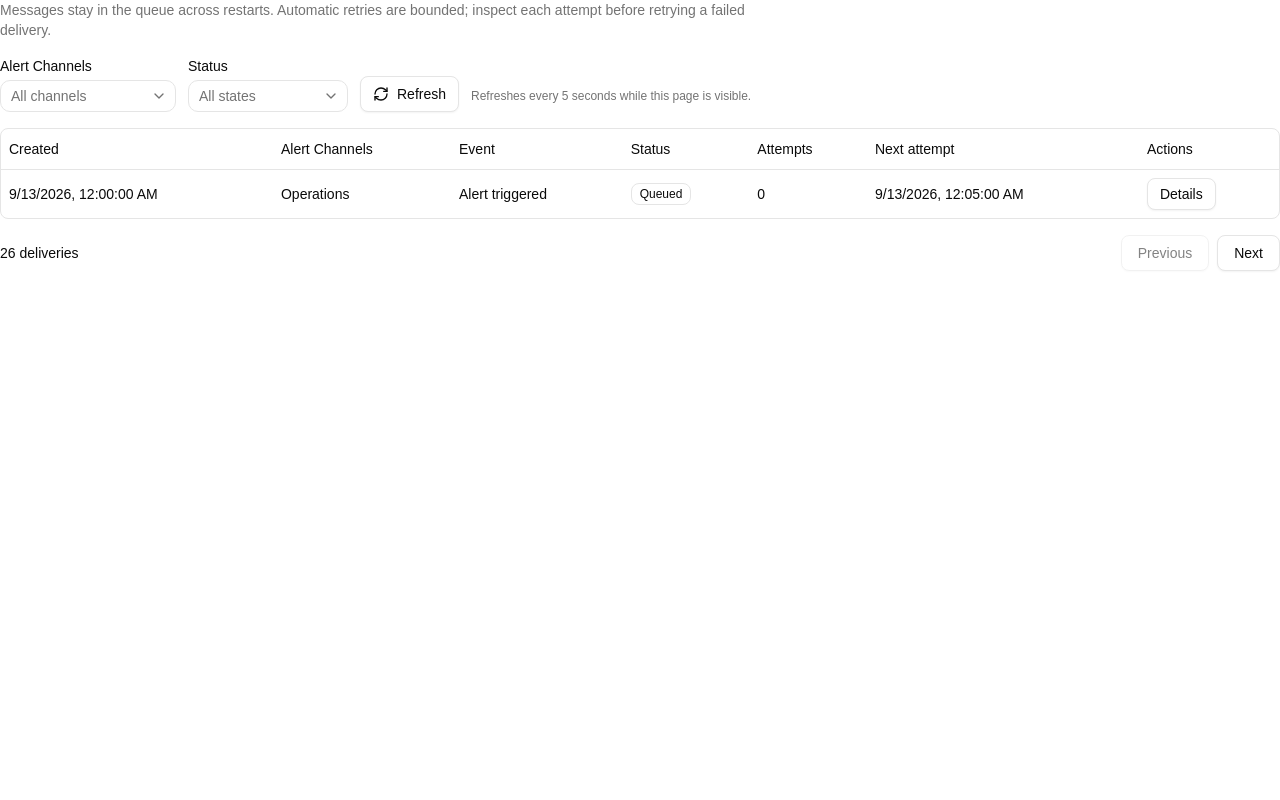
durable notification history › cancels unfinished delivery and preserves a retryable error
The width and height of the screenshot is (1280, 800).
Click the button "Details": click(1181, 194) [1147,178,1216,210]
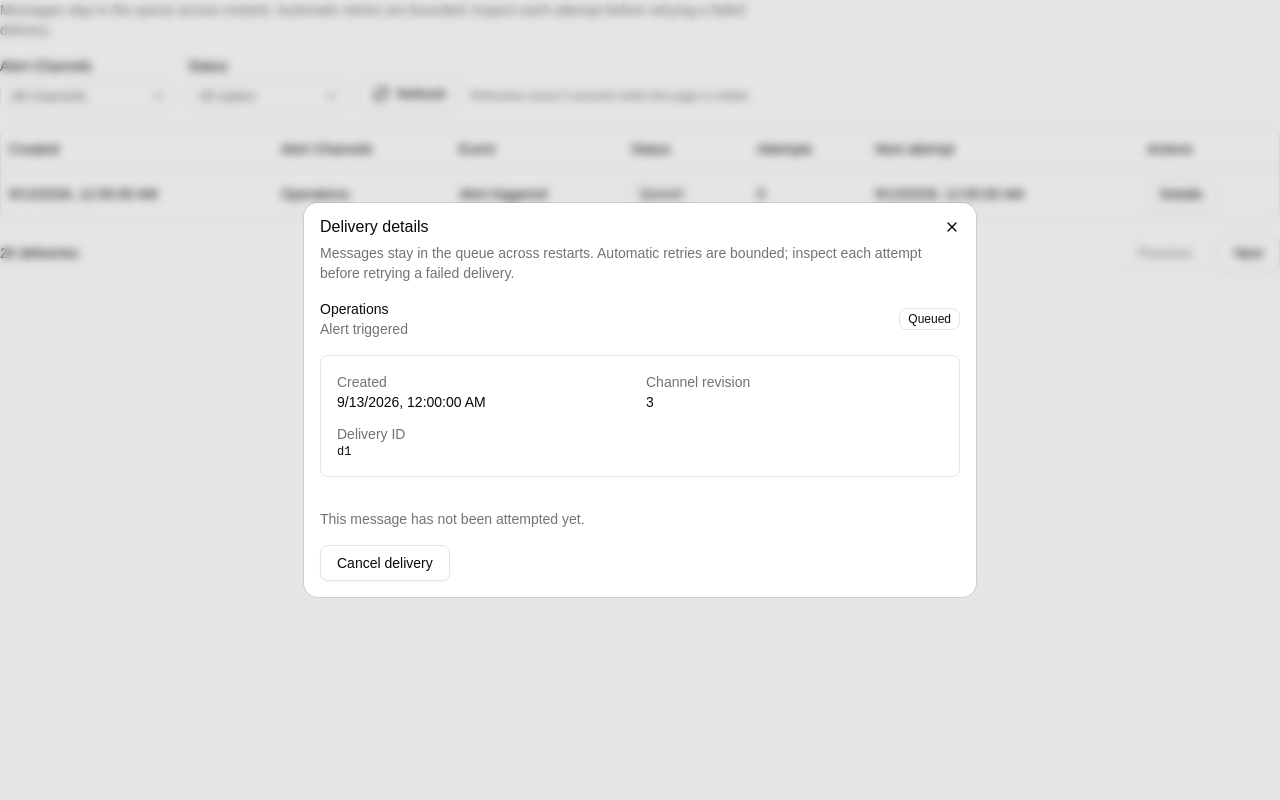
Click the button "Cancel delivery": click(385, 563) [320,545,450,581]
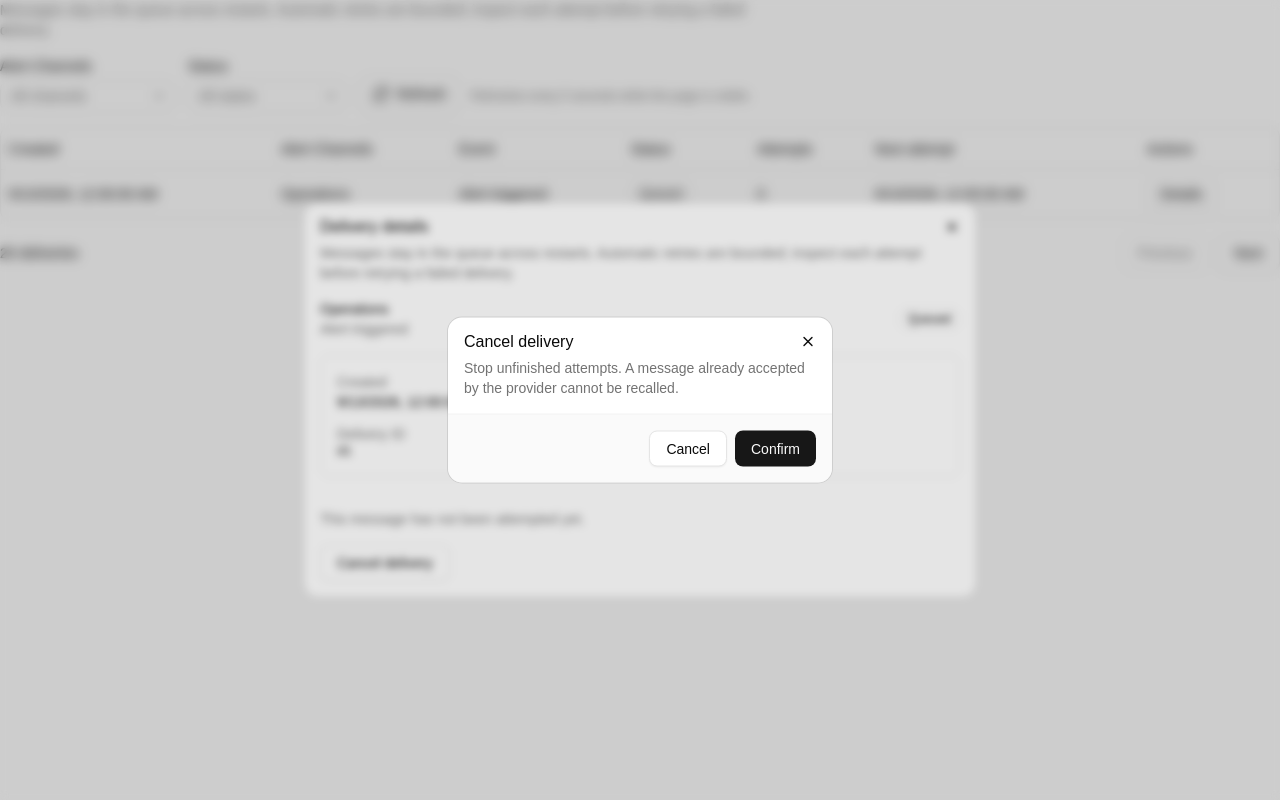
Click the button "Confirm": click(776, 448) [735,430,816,466]
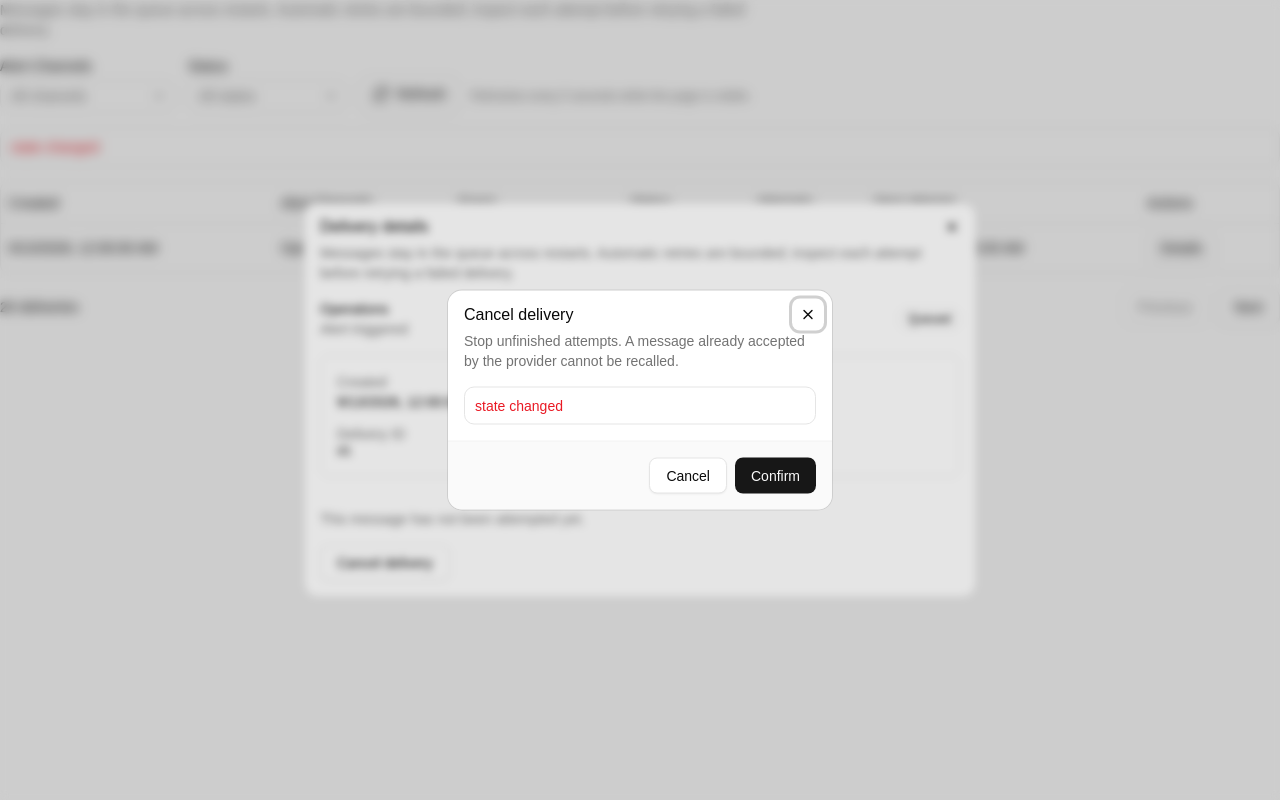
Click the button "Confirm": click(776, 476) [735,458,816,494]
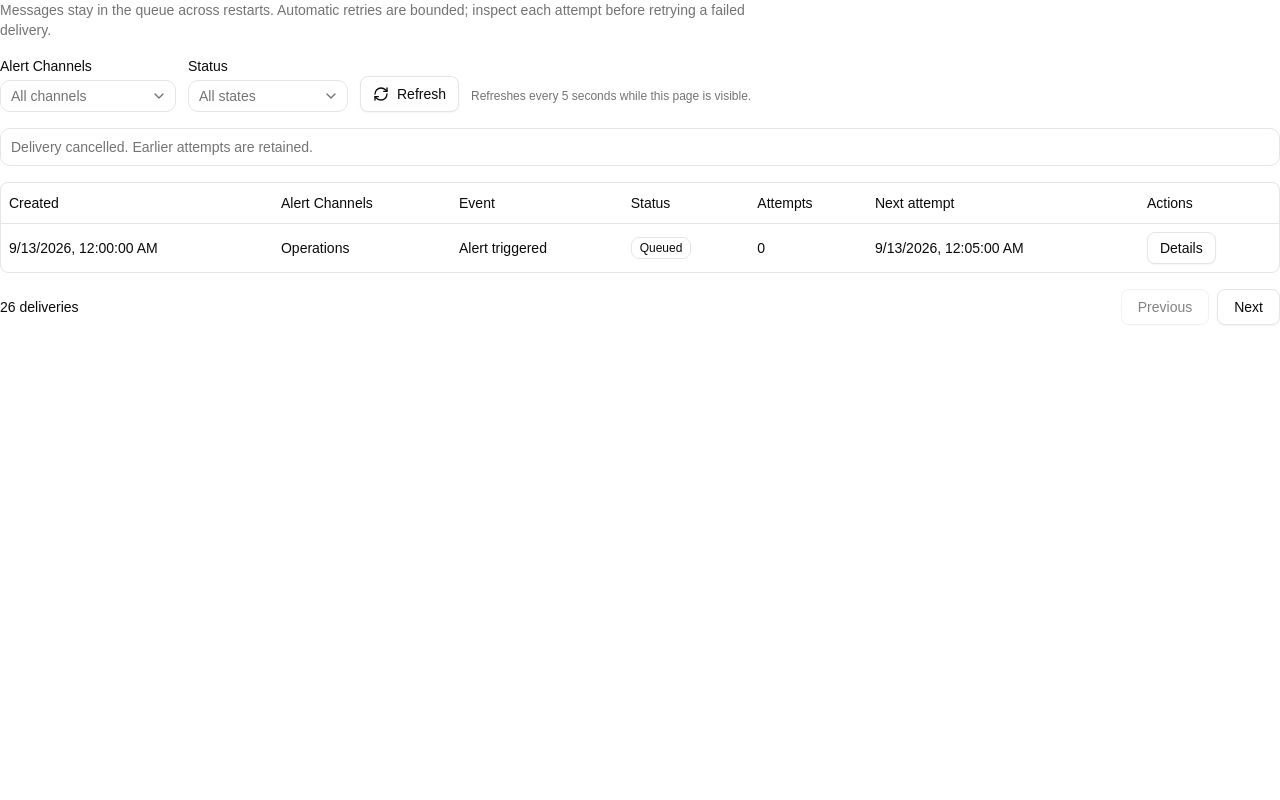
Expected: the text "Delivery cancelled. Earlier attempts are retained." is shown, [11,139,313,155]
